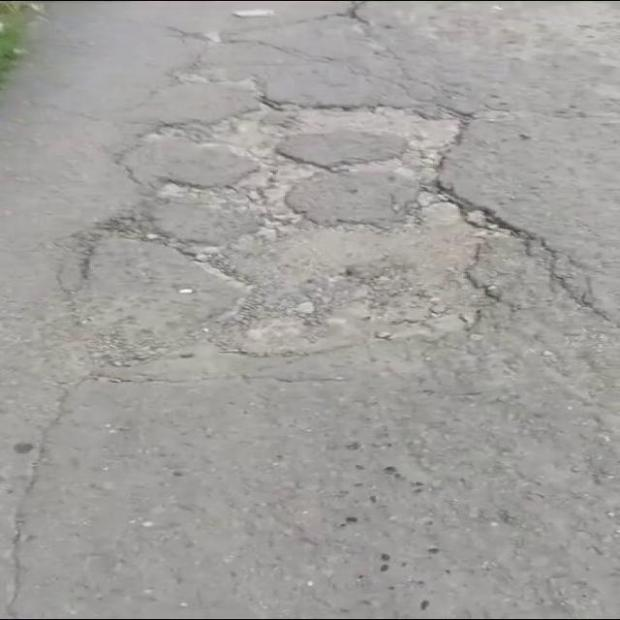lubang: (76, 107, 529, 379)
